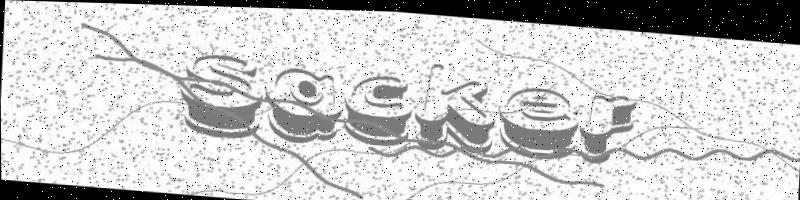a: (263, 63, 342, 145)
c: (341, 70, 415, 145)
e: (497, 82, 581, 157)
k: (413, 60, 497, 152)
r: (579, 88, 637, 161)
s: (179, 51, 262, 139)
